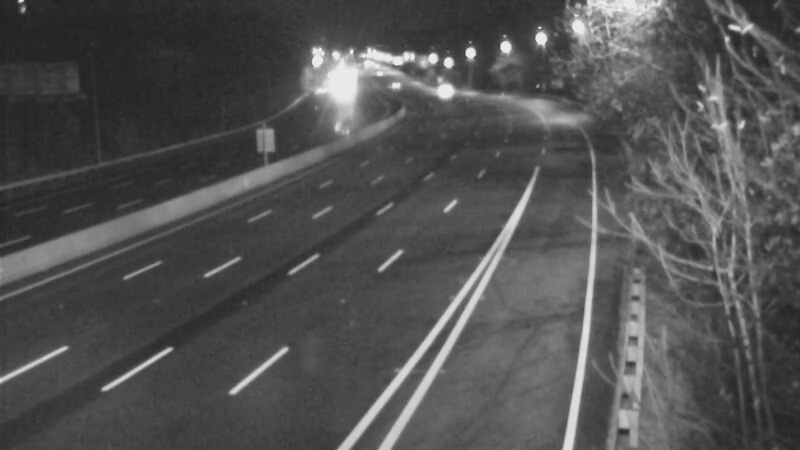vehicle: (370, 56, 420, 106), (420, 68, 470, 118), (320, 66, 370, 116)
